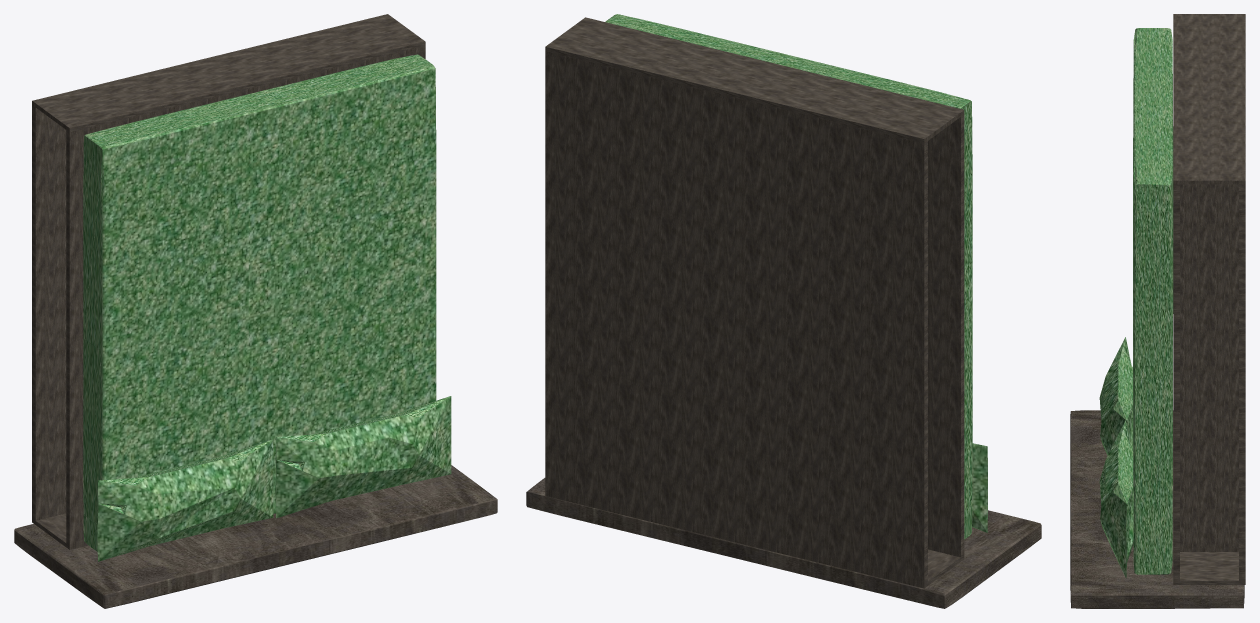
Rendered from bed990_wtf.obj.
3 views of the same model, side by side, from view 1: azimuth 30°, elevation 25°; view 2: azimuth 150°, elevation 25°; view 3: azimuth 270°, elevation 25° (orthographic). The views are drawn at different scales.
Visible parts, largest first — view 1: group6, group2, group5, group9, group3, group4; view 2: group9, group3, group5, group6, group4, group2; view 3: group6, group8, group3, group5, group2, group9, group4.
Part boxes in pixels (box(x1,y1,x2,y2)): group6: box(83, 54, 436, 551); group2: box(97, 396, 451, 561); group5: box(14, 465, 497, 608); group9: box(32, 45, 425, 545); group3: box(32, 14, 425, 132); group4: box(32, 513, 88, 549); group9: box(545, 51, 964, 583); group3: box(545, 17, 964, 143); group5: box(526, 478, 1041, 608); group6: box(605, 14, 972, 539); group4: box(545, 491, 964, 588); group2: box(972, 443, 987, 532); group6: box(1133, 28, 1173, 574); group8: box(1180, 184, 1238, 551); group3: box(1173, 14, 1245, 184); group5: box(1070, 410, 1244, 608); group2: box(1099, 337, 1133, 578); group9: box(1173, 184, 1245, 580); group4: box(1173, 552, 1245, 584).
Size of the model in its own units: 622 by 660 by 250.
